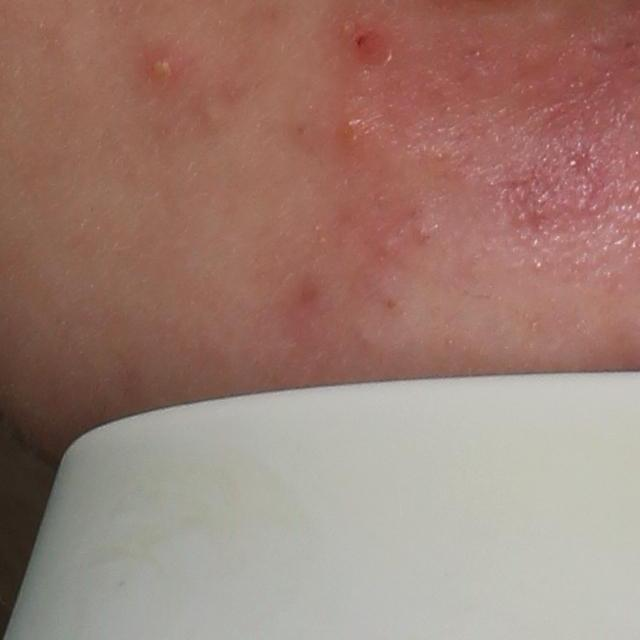papule: (338, 23, 385, 63), (338, 112, 381, 152)
pustule: (140, 45, 188, 96)
